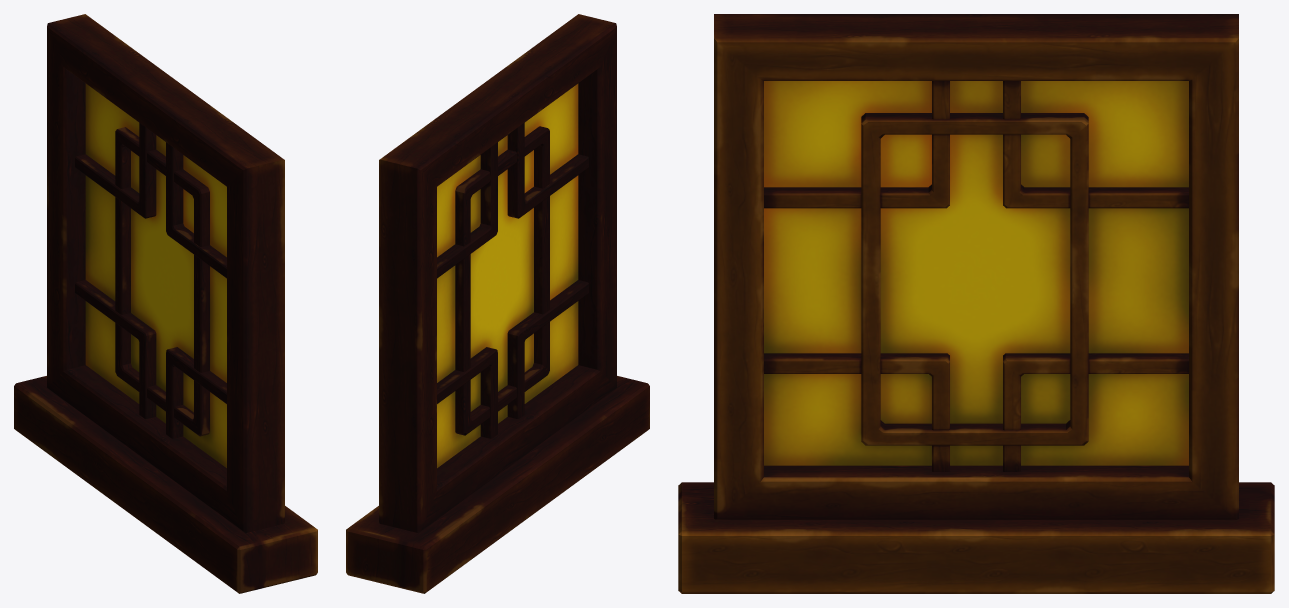
The model's file is Windows.fbx.
3 renders of one model, left to right at view 1: azimuth 30°, elevation 25°; view 2: azimuth 150°, elevation 25°; view 3: azimuth 270°, elevation 25°, orthographic. The views are drawn at different scales.
Parts seen in each view (by area): view 1: defaultMaterial.007; view 2: defaultMaterial.007; view 3: defaultMaterial.007.
Boxes of the visible parts, left/top/right/bottom form: defaultMaterial.007: left=14, top=14, right=317, bottom=593; defaultMaterial.007: left=346, top=14, right=649, bottom=593; defaultMaterial.007: left=678, top=14, right=1274, bottom=593.
Size of the model in its own units: 37.38 by 182 by 181.
1 material, 1 textured.
